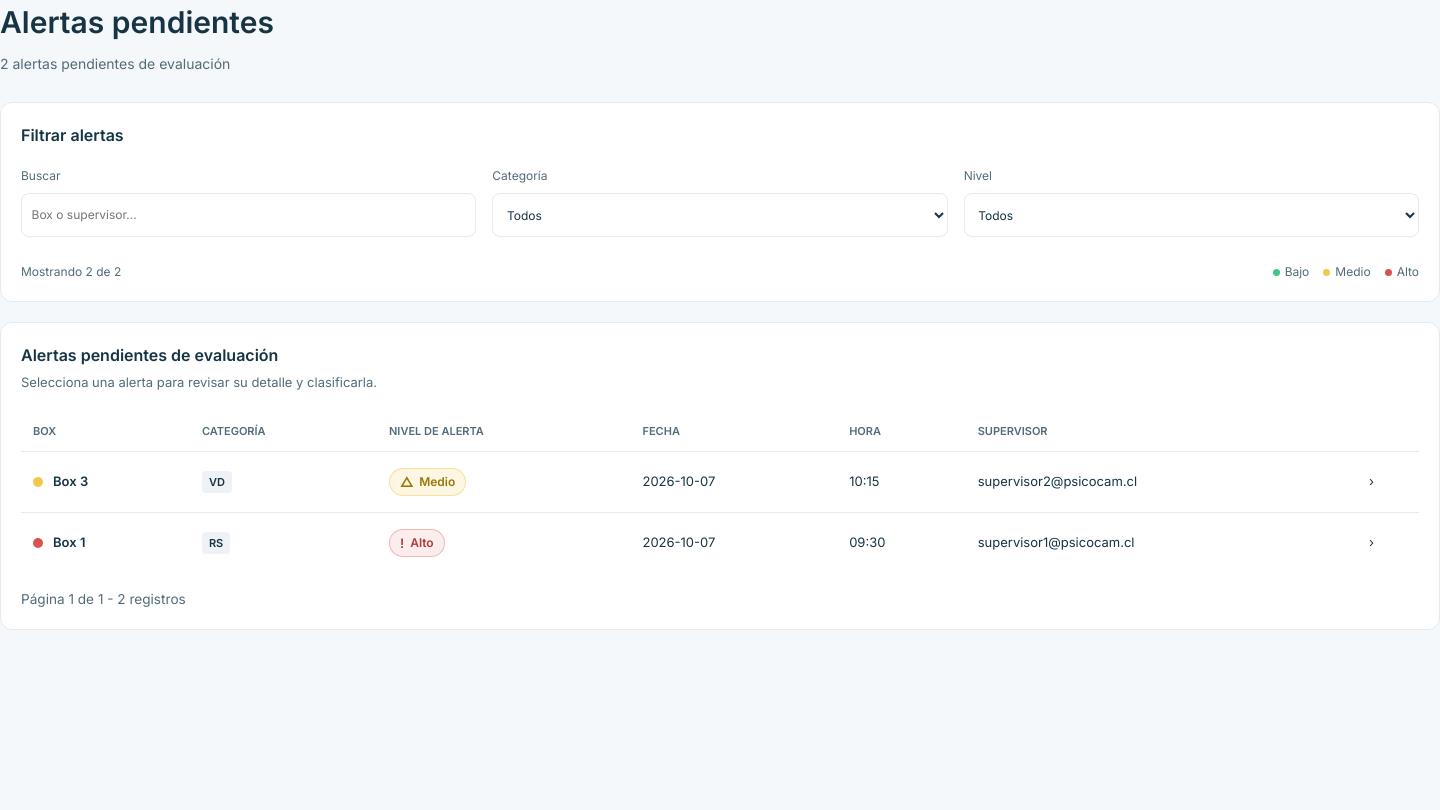
Test: SCRUM-602 - Página Alertas › informa si el acceso a la transcripción es denegado
This screenshot has width=1440, height=810.
Click the text "supervisor1@psicocam.cl": (1056,542) [966,512,1357,573]
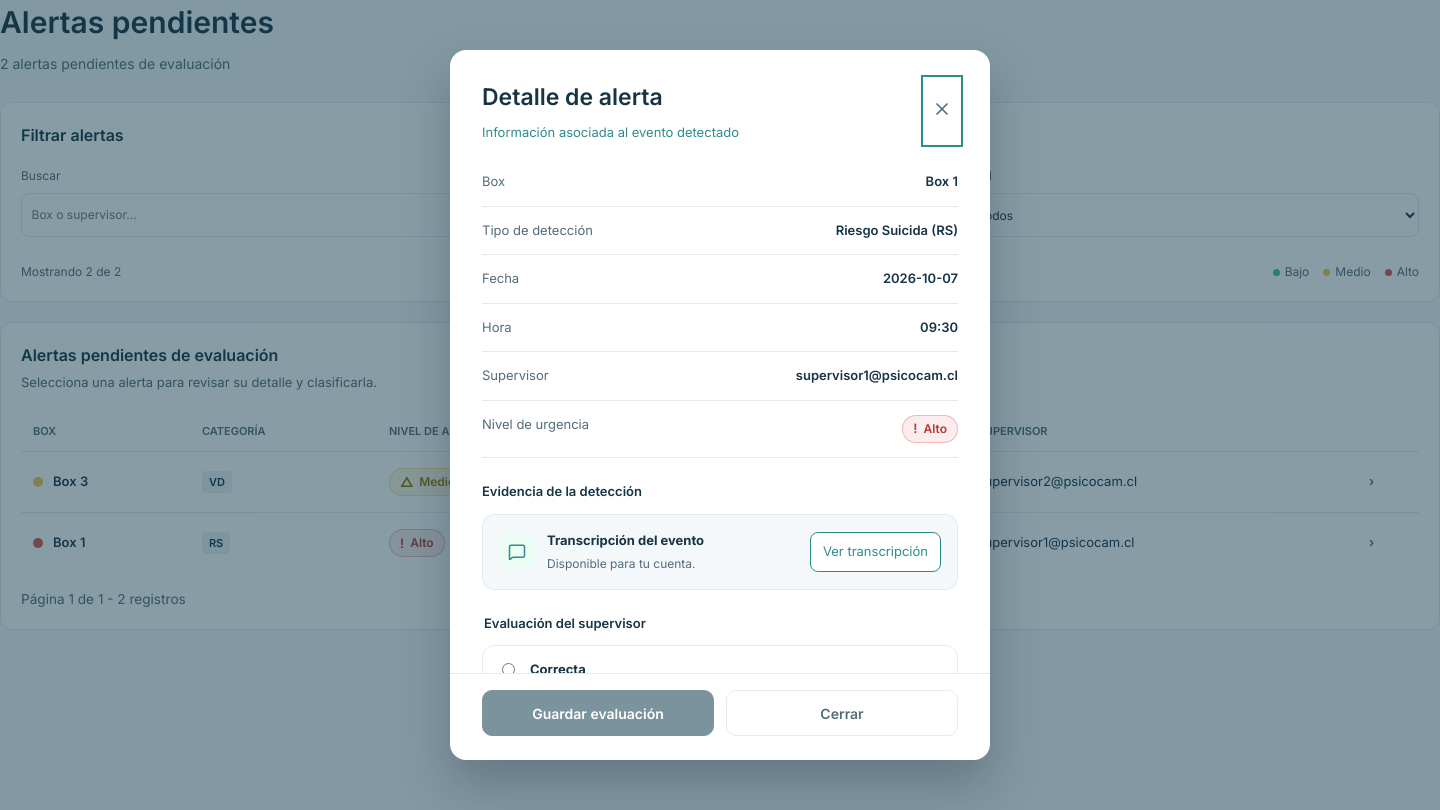
Click the button "Ver transcripción": (875,552) [810,532,941,572]
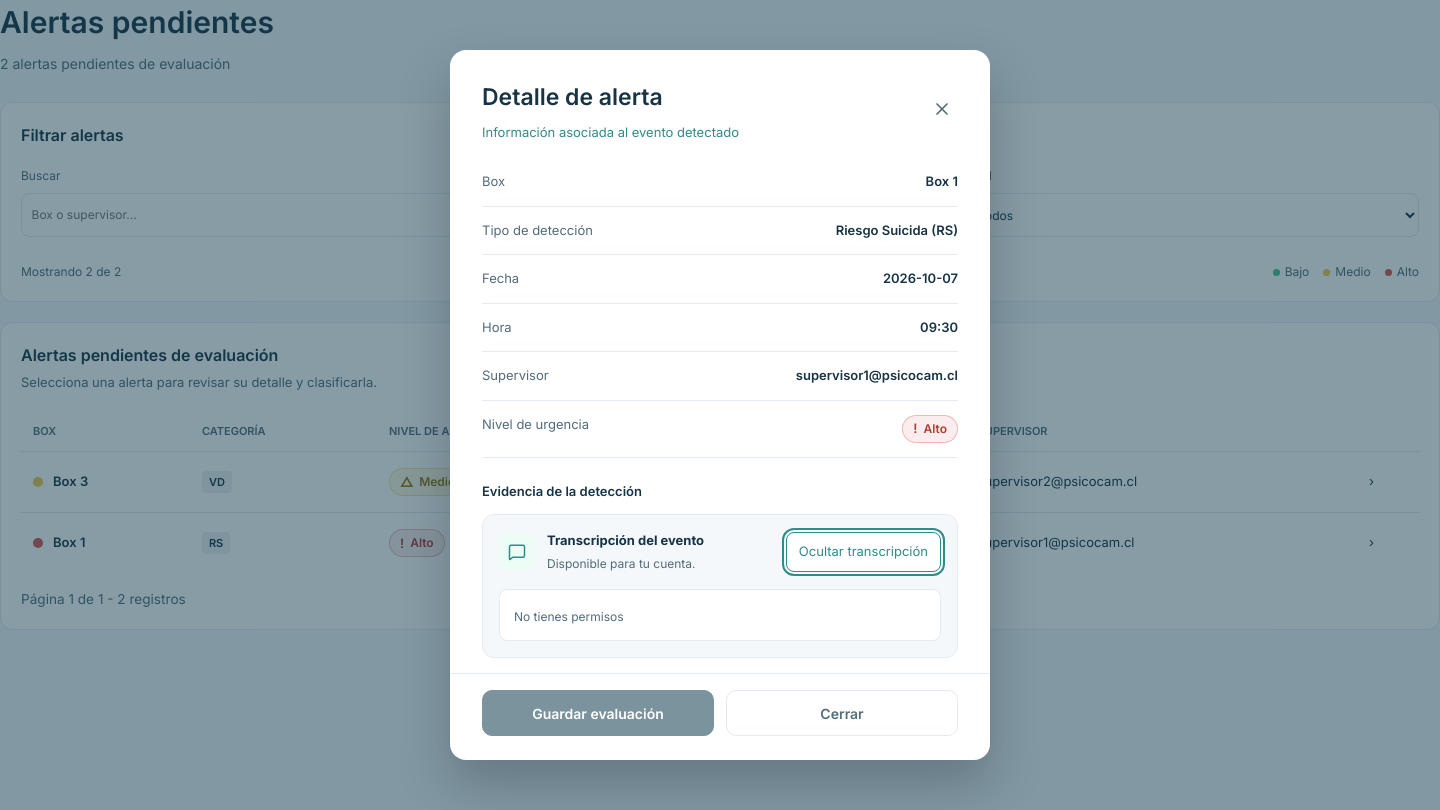
Check: the message reads "No tienes permisos", box [514,608,624,624]
